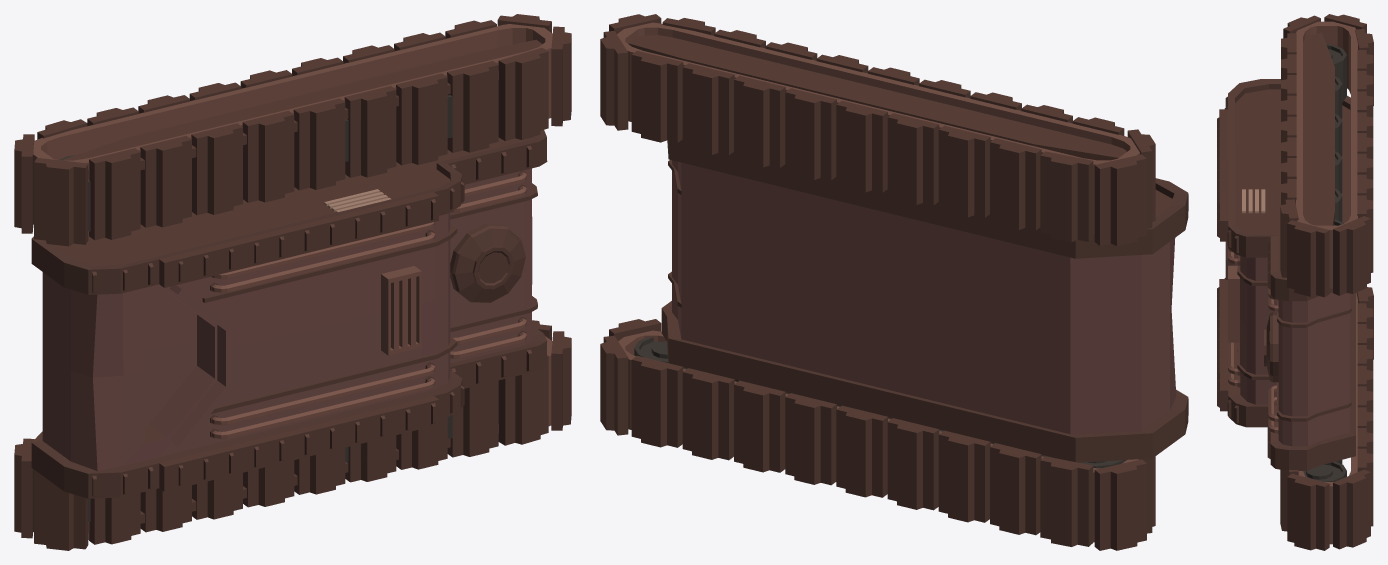
File: Tank_4_Base.glb
The picture shows the model from 3 angles, left to right: view 1: azimuth 30°, elevation 25°; view 2: azimuth 150°, elevation 25°; view 3: azimuth 270°, elevation 25°; orthographic projection. The views are drawn at different scales.
Parts seen in each view (by area): view 1: Tank_body.001_Cube.001, TrackMesh.L_Cube.051, TrackMesh.R_Cube.000; view 2: Tank_body.001_Cube.001, TrackMesh.L_Cube.051, TrackMesh.R_Cube.000; view 3: Tank_body.001_Cube.001, TrackMesh.L_Cube.051, TrackMesh.R_Cube.000.
Boxes of the visible parts, x1,y1,x2,y2 form: Tank_body.001_Cube.001: (31,24,552,539); TrackMesh.L_Cube.051: (14,14,571,246); TrackMesh.R_Cube.000: (14,320,571,550); Tank_body.001_Cube.001: (617,22,1188,542); TrackMesh.L_Cube.051: (600,14,1155,245); TrackMesh.R_Cube.000: (600,319,1155,550); Tank_body.001_Cube.001: (1217,21,1357,544); TrackMesh.L_Cube.051: (1280,14,1373,297); TrackMesh.R_Cube.000: (1280,284,1373,550).
Bounding box in the file's own units: 14.79 × 9.98 × 4.46.
